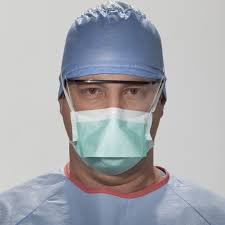mask: (50, 4, 179, 191)
